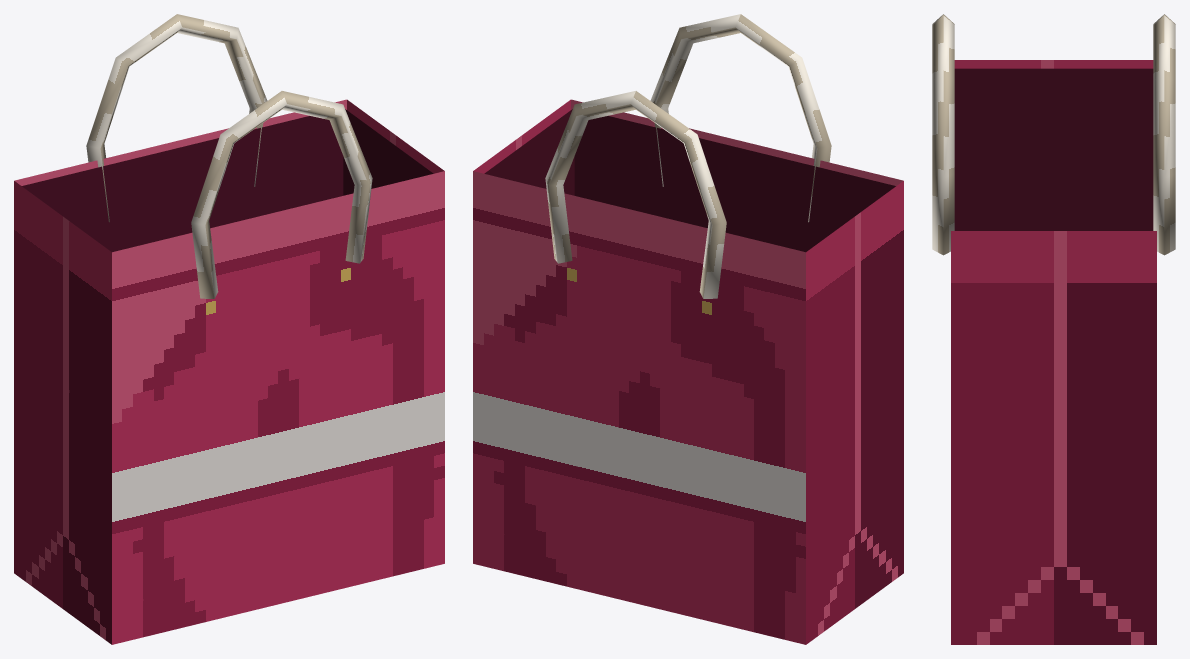
File: play-shoppingBag.glb
3 views of the same model, side by side, from view 1: azimuth 30°, elevation 25°; view 2: azimuth 150°, elevation 25°; view 3: azimuth 270°, elevation 25° (orthographic). The views are drawn at different scales.
Visible parts, largest first — view 1: play.shoppingBag; view 2: play.shoppingBag; view 3: play.shoppingBag.
Part boxes in pixels (left/top/right/bottom): play.shoppingBag: left=14, top=14, right=444, bottom=644; play.shoppingBag: left=473, top=14, right=903, bottom=644; play.shoppingBag: left=932, top=14, right=1175, bottom=644.
Bounding box in the file's own units: 1.08 × 1.59 × 0.6456.
4 materials, 3 textured.
